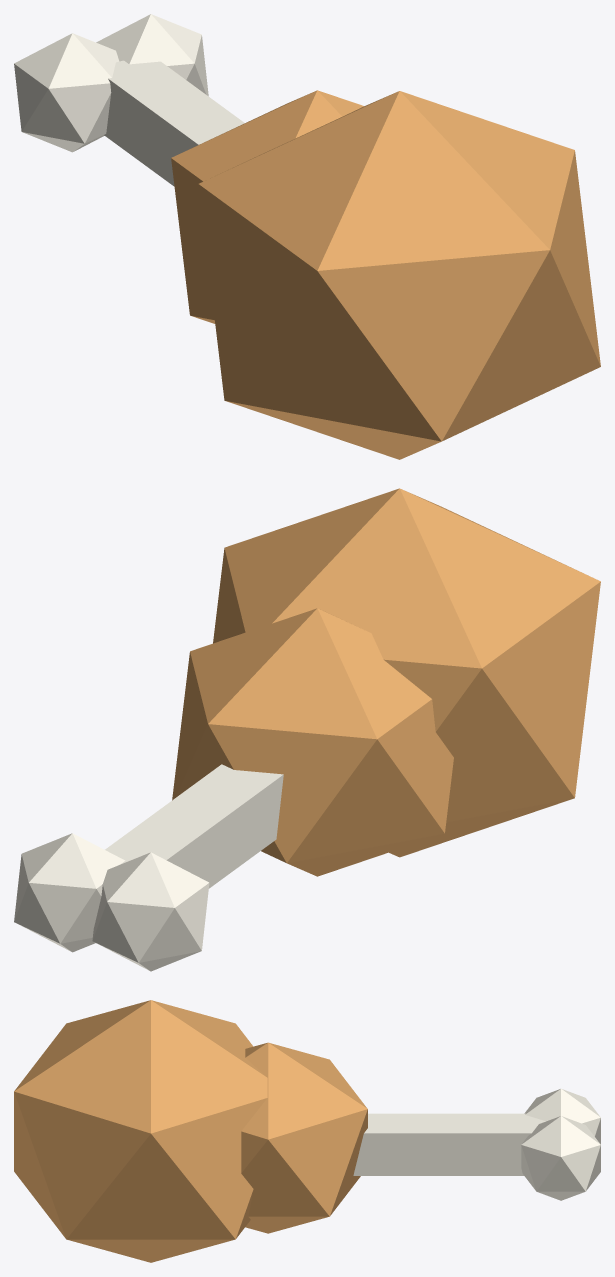
File: meat.glb
3 renders of one model, top to bottom at view 1: azimuth 30°, elevation 25°; view 2: azimuth 150°, elevation 25°; view 3: azimuth 270°, elevation 25°, orthographic. The views are drawn at different scales.
Parts seen in each view (by area): view 1: Meat; view 2: Meat; view 3: Meat.
Boxes of the visible parts, x1,y1,x2,y2 form: Meat: [14, 14, 600, 459]; Meat: [14, 488, 600, 971]; Meat: [14, 1000, 600, 1262].
Size of the model in its own units: 0.1968 by 0.198 by 0.4008.
